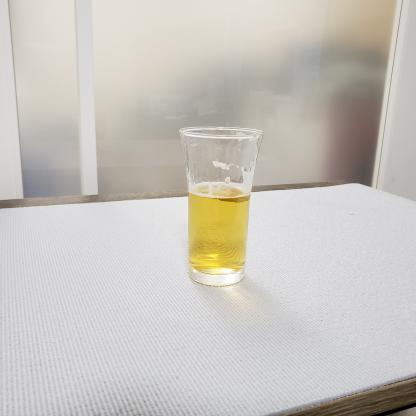glass: (173, 118, 284, 297)
